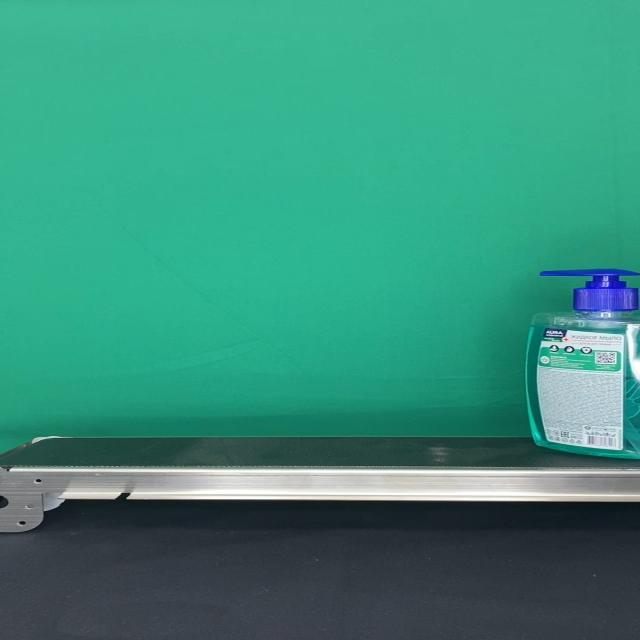Bottle: (524, 269, 640, 459)
Cap: (539, 269, 639, 311)
